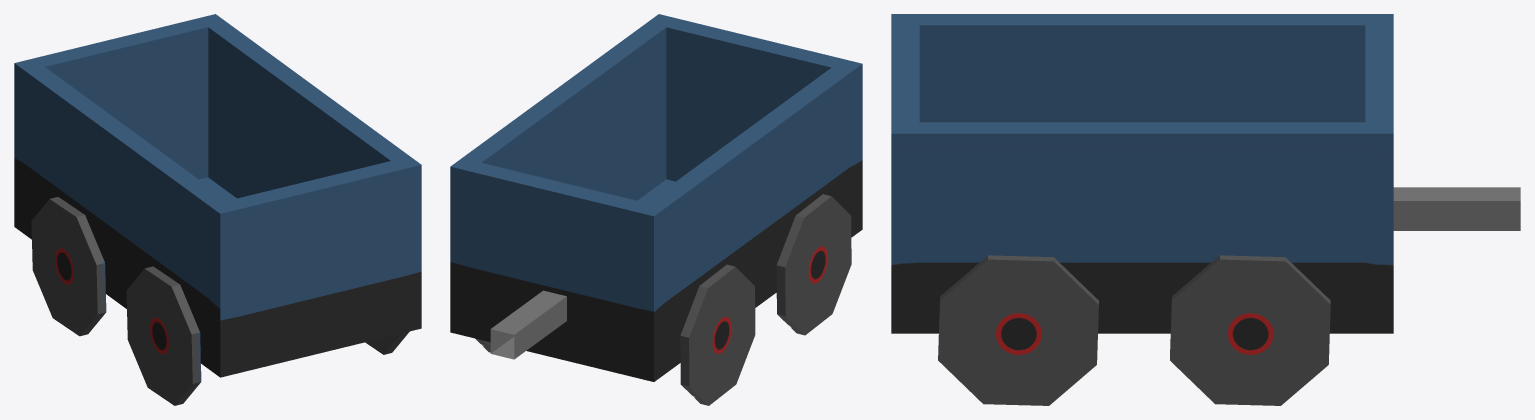
Rendered from Carriage.fbx.
3 views of the same model, side by side, from view 1: azimuth 30°, elevation 25°; view 2: azimuth 150°, elevation 25°; view 3: azimuth 270°, elevation 25° (orthographic). The views are drawn at different scales.
Visible parts, largest first — view 1: Carriage; view 2: Carriage; view 3: Carriage.
Boxes of the visible parts, bbox=[...] form: Carriage: bbox=[14, 14, 421, 405]; Carriage: bbox=[450, 14, 862, 405]; Carriage: bbox=[891, 14, 1520, 405].
Size of the model in its own units: 2.1 by 2.01 by 4.3.
